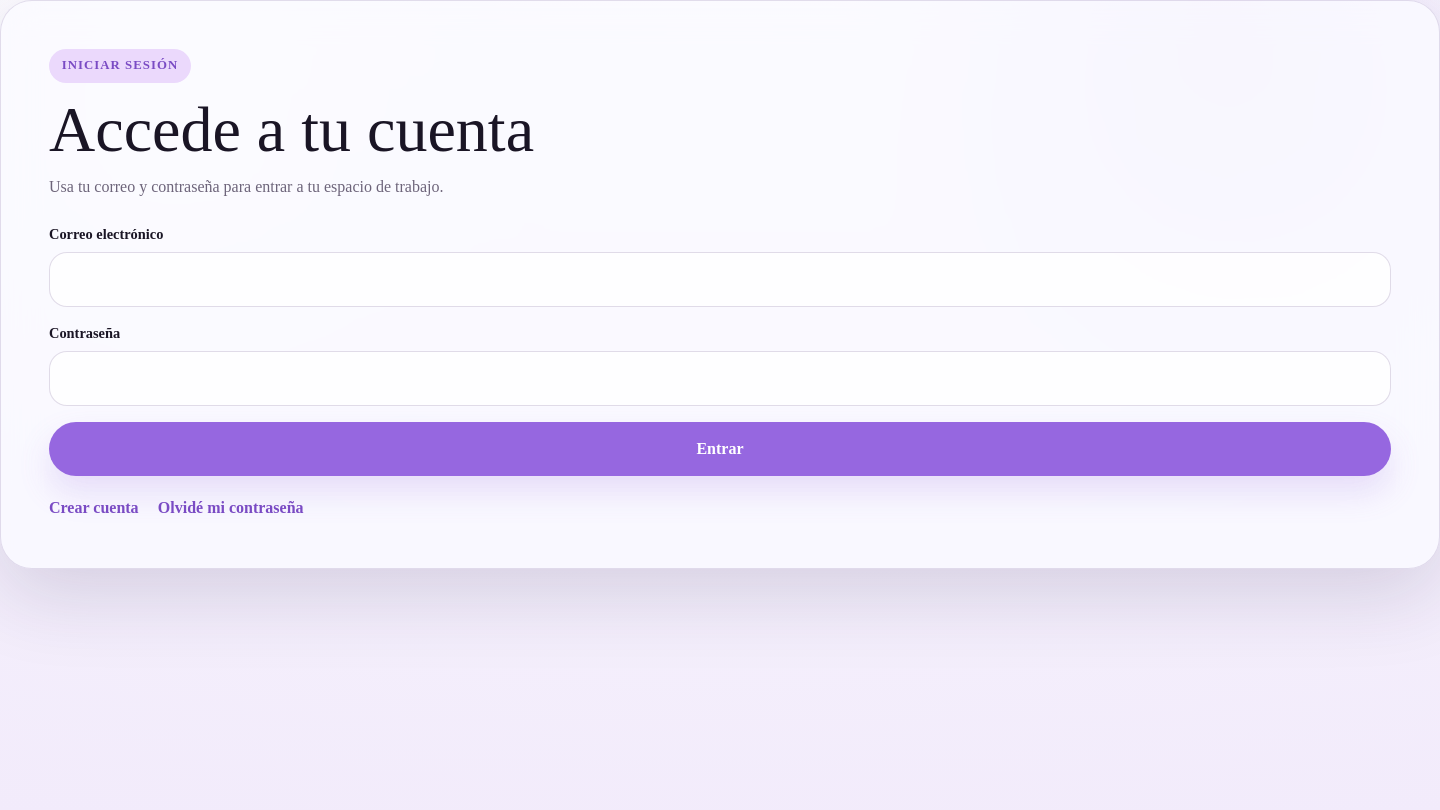
Test: SignInForm › shows backend errors returned by the API
Type "user@example.com" into the field labelled "Correo electrónico" at (720, 279), box [49,252,1391,307]
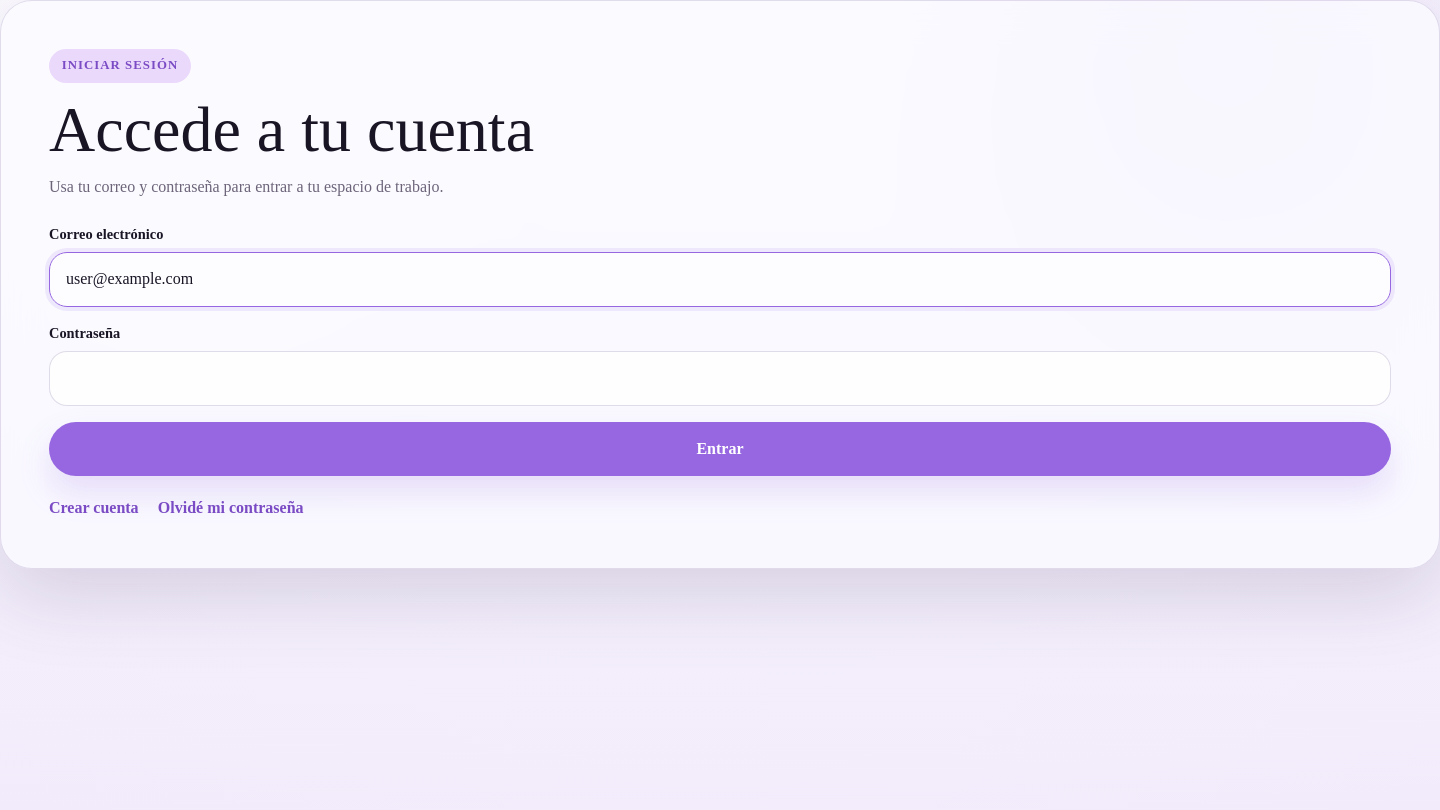
Type "secret123" into the password field labelled "Contraseña" at (720, 378), box [49,351,1391,406]
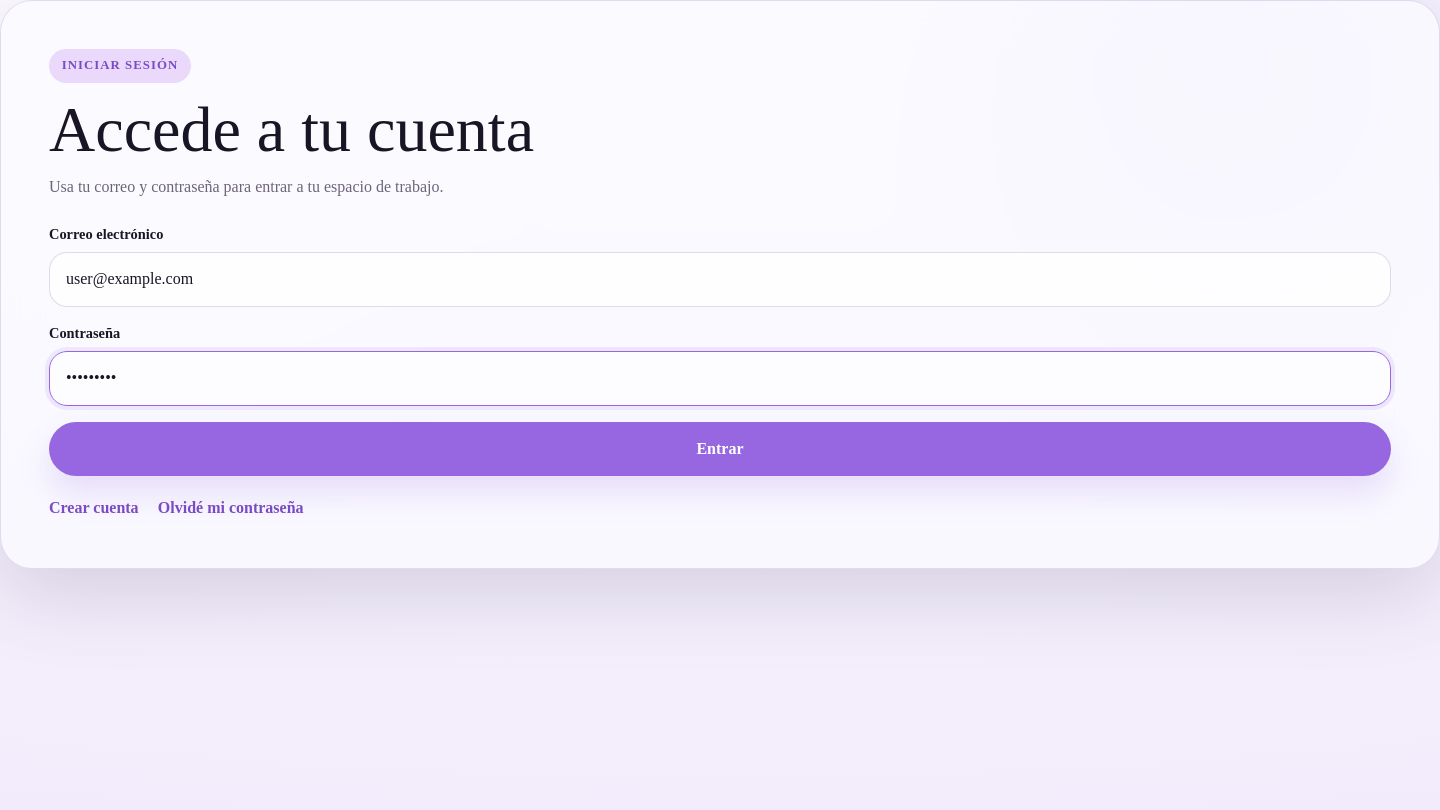
Click the button "Entrar" at (720, 449), box [49,422,1391,476]
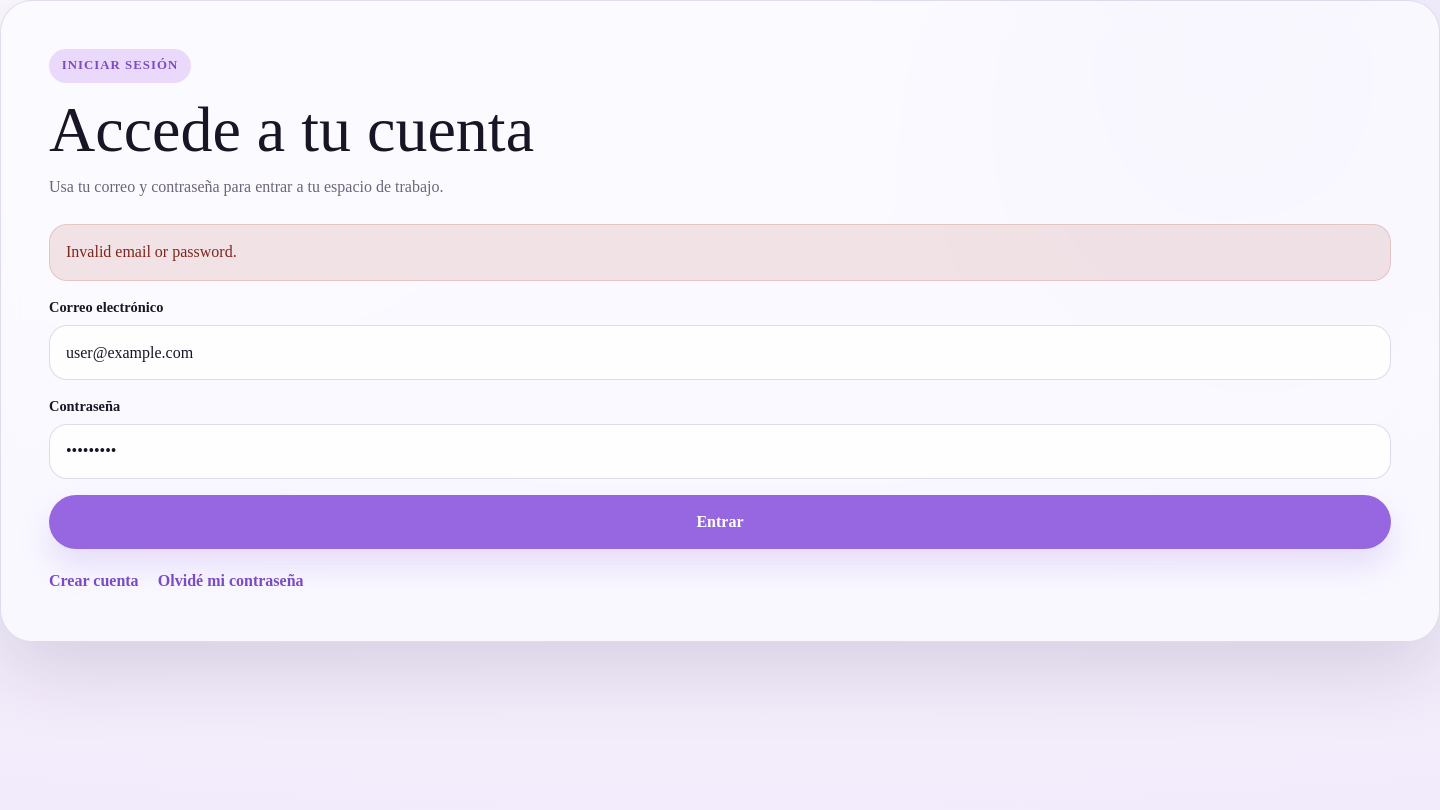
Expected: the message shows "Invalid email or password", [66,243,237,260]
